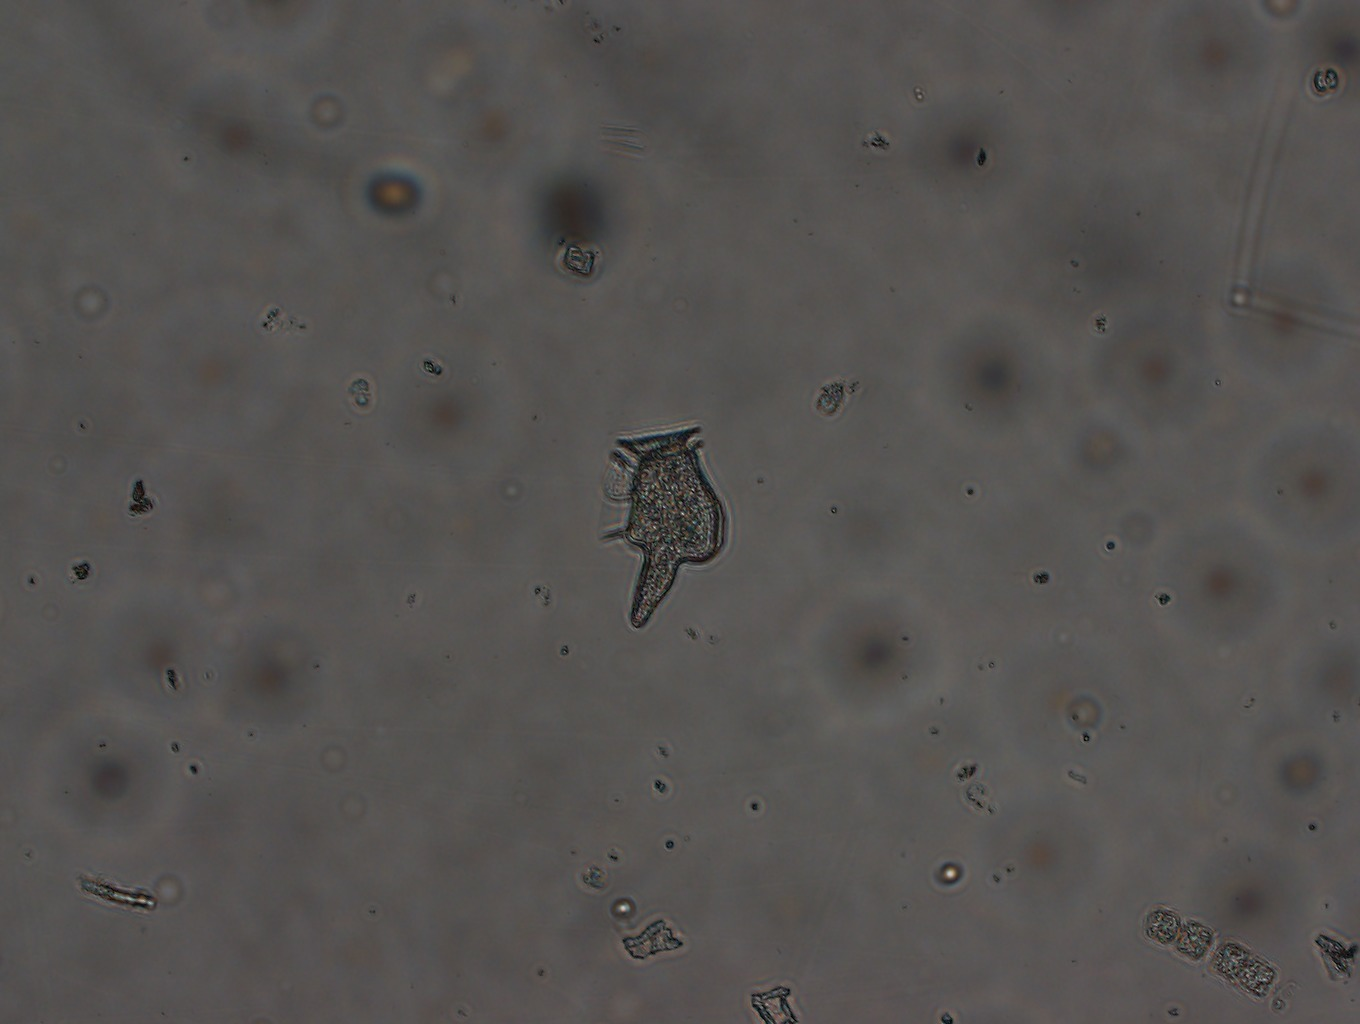detonula pumila: (1128, 894, 1280, 1000)
dinophysis caudata: (589, 411, 735, 632)
